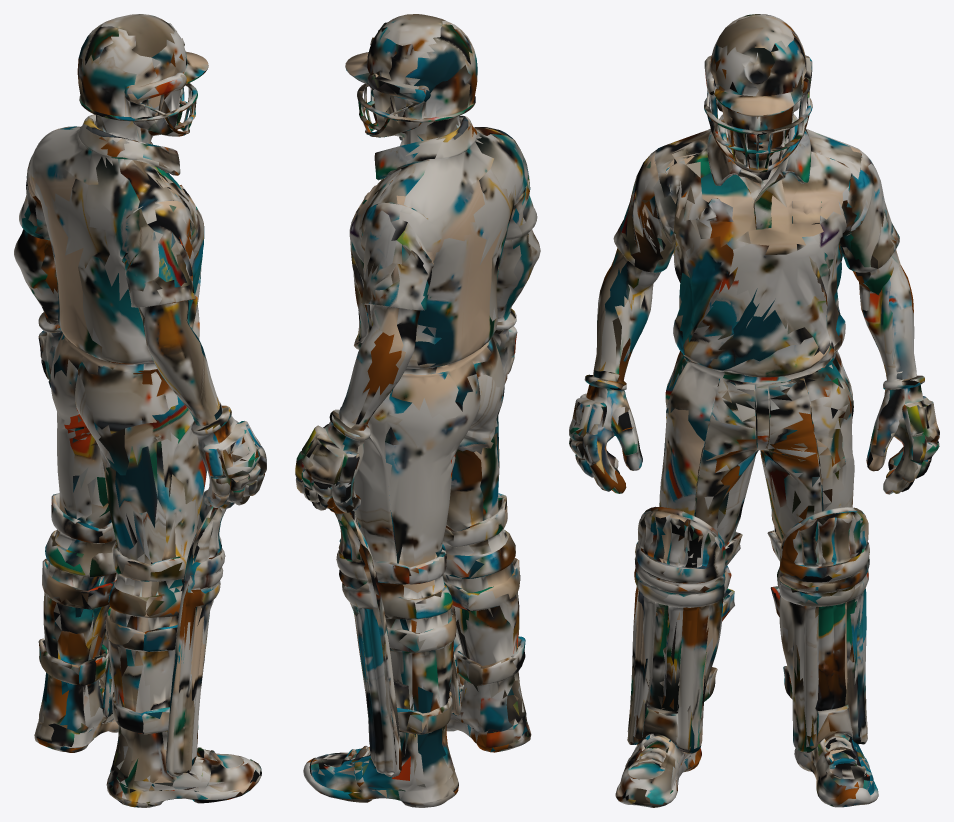
Rendered from SM_C26_Player_Fielder5.fbx.
The picture shows the model from 3 angles, left to right: view 1: azimuth 30°, elevation 25°; view 2: azimuth 150°, elevation 25°; view 3: azimuth 270°, elevation 25°; orthographic projection. The views are drawn at different scales.
Visible parts, largest first — view 1: node_0; view 2: node_0; view 3: node_0.
Boxes of the visible parts, left/top/right/bottom form: node_0: left=14, top=14, right=266, bottom=807; node_0: left=295, top=14, right=540, bottom=807; node_0: left=569, top=14, right=939, bottom=807.
Size of the model in its own units: 80.31 by 35.28 by 182.
